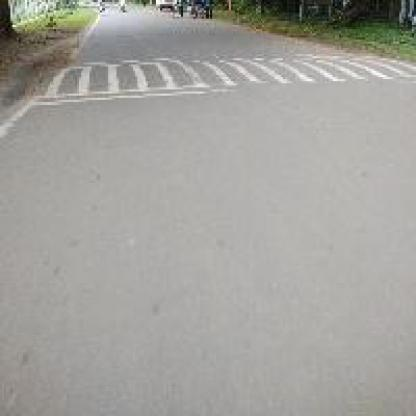Speed Bump: (42, 50, 406, 106)
